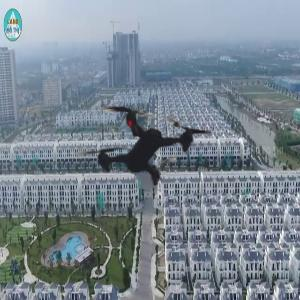drone: (50, 48, 242, 240)
